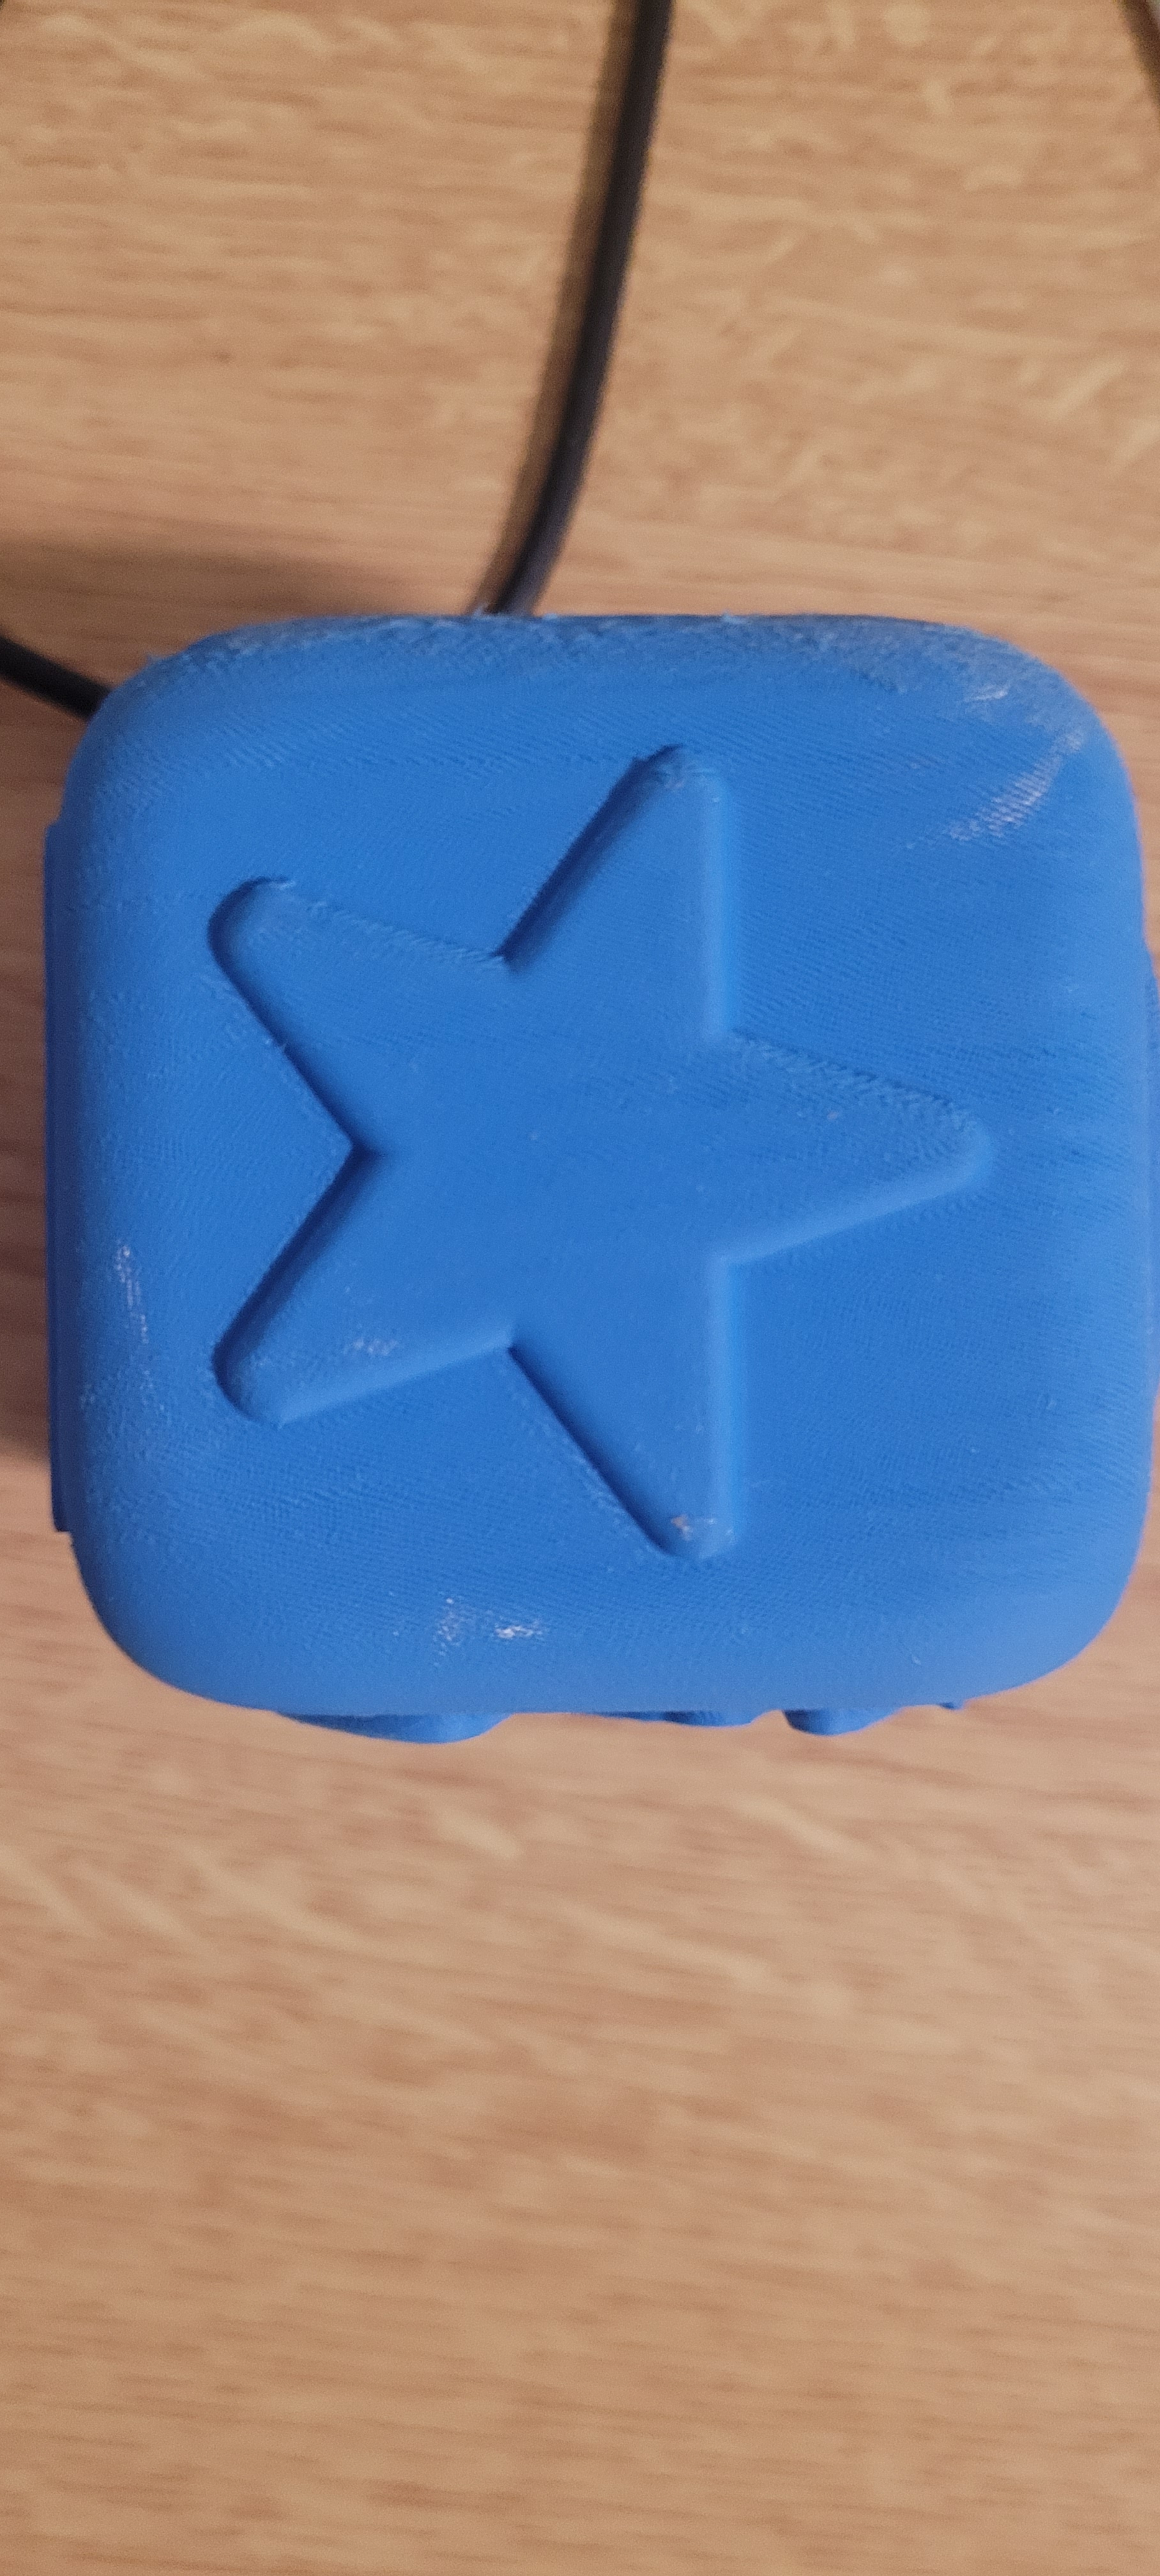Star: (82, 701, 1148, 1653)
